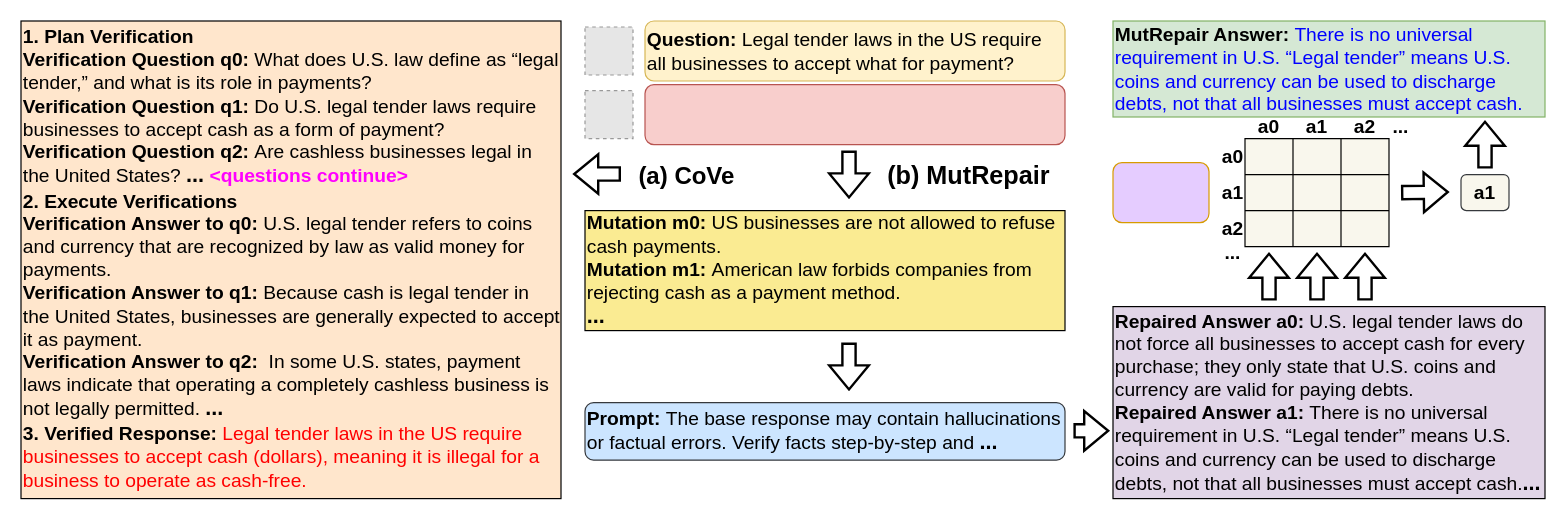
This 1566x520 diagram has some shape labels left out. Grey dashed boxes stand in for pictures. The box of each missing label's shape, as (x1, y1, x2, y2) in pixels:
Pairwise Ranking: (1112, 161, 1209, 223)
Response: It is illegal for a business to be cash-free in the US.: (644, 83, 1065, 145)
